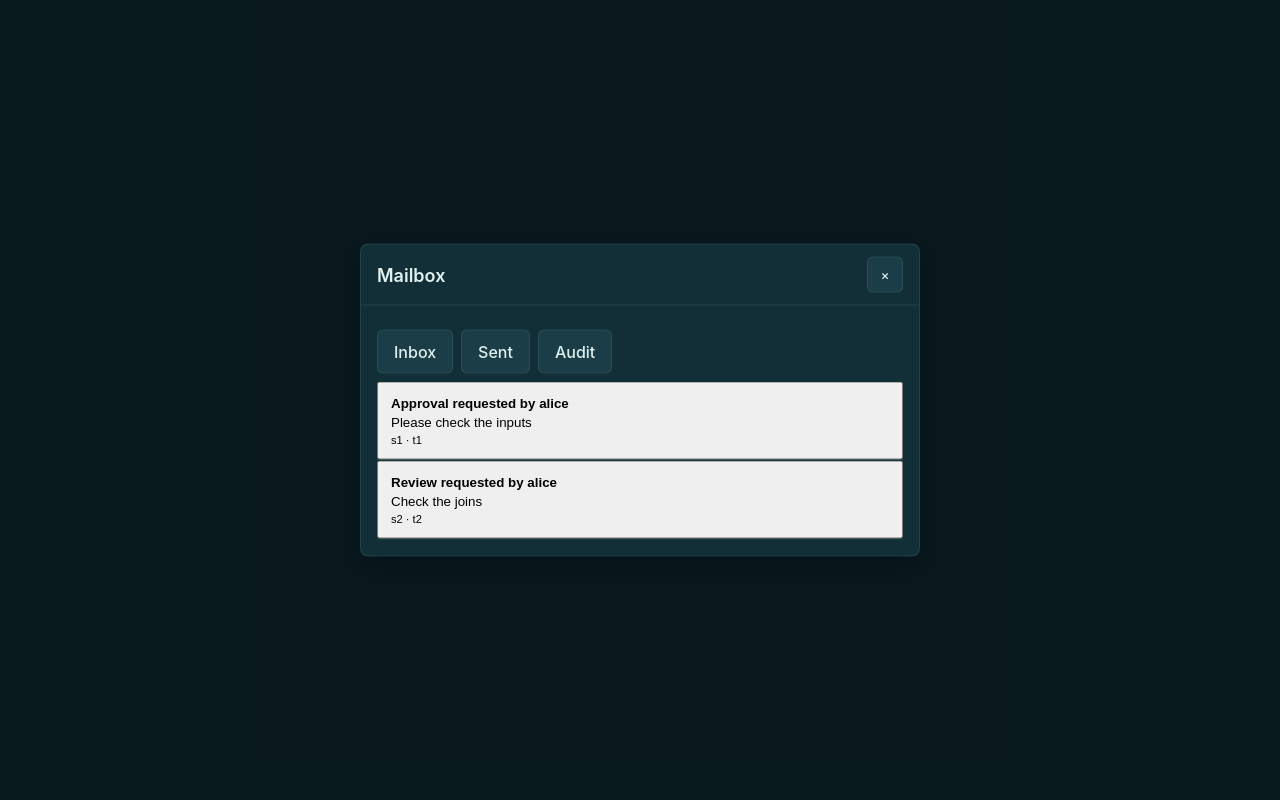
MailboxDialog › shows the server's winning decision after a concurrent loss
Step 1. Click the button "Approval requested by alice Please check the inputs s1 · t1" → (420, 403), box [377,382,903,460]
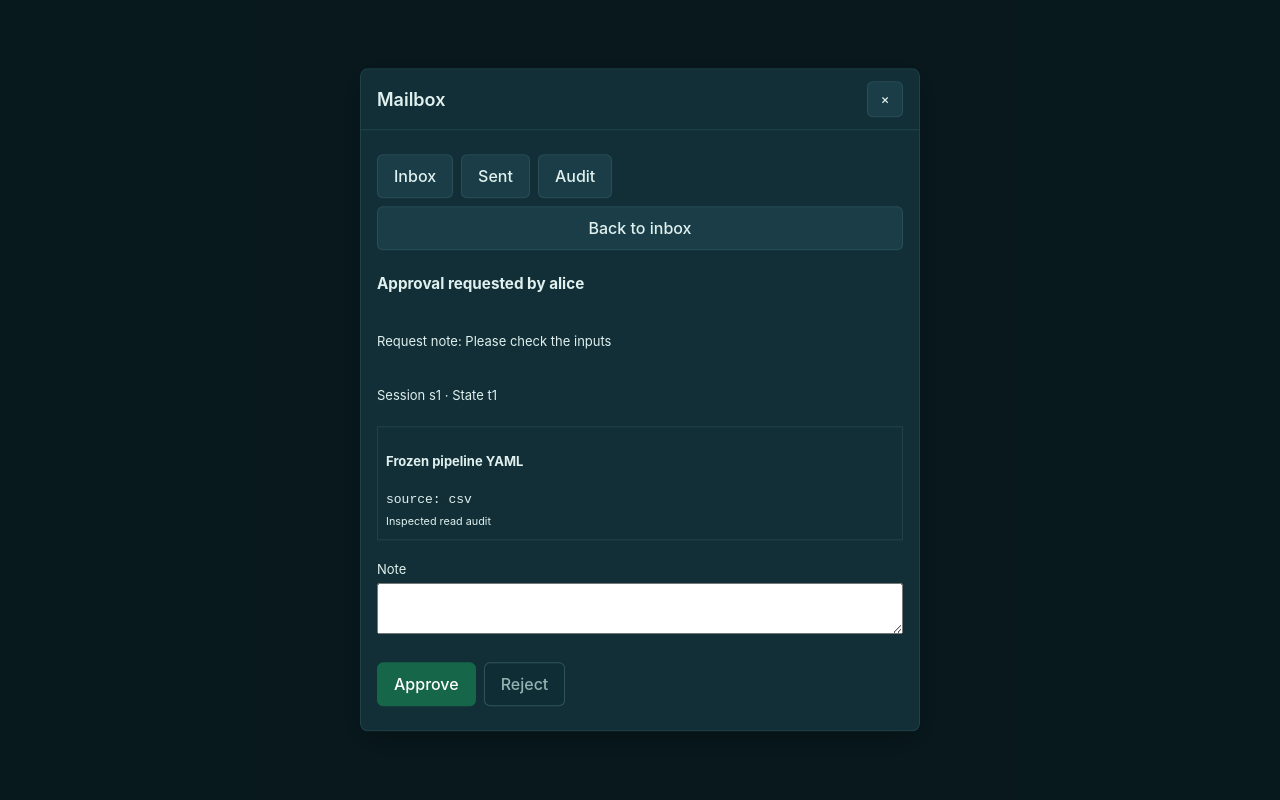
Now the element with test id "mailbox-inspect-yaml" is shown, box [386,493,472,508]
Step 2. Click the button "Approve" → (426, 685), box [377,663,476,707]
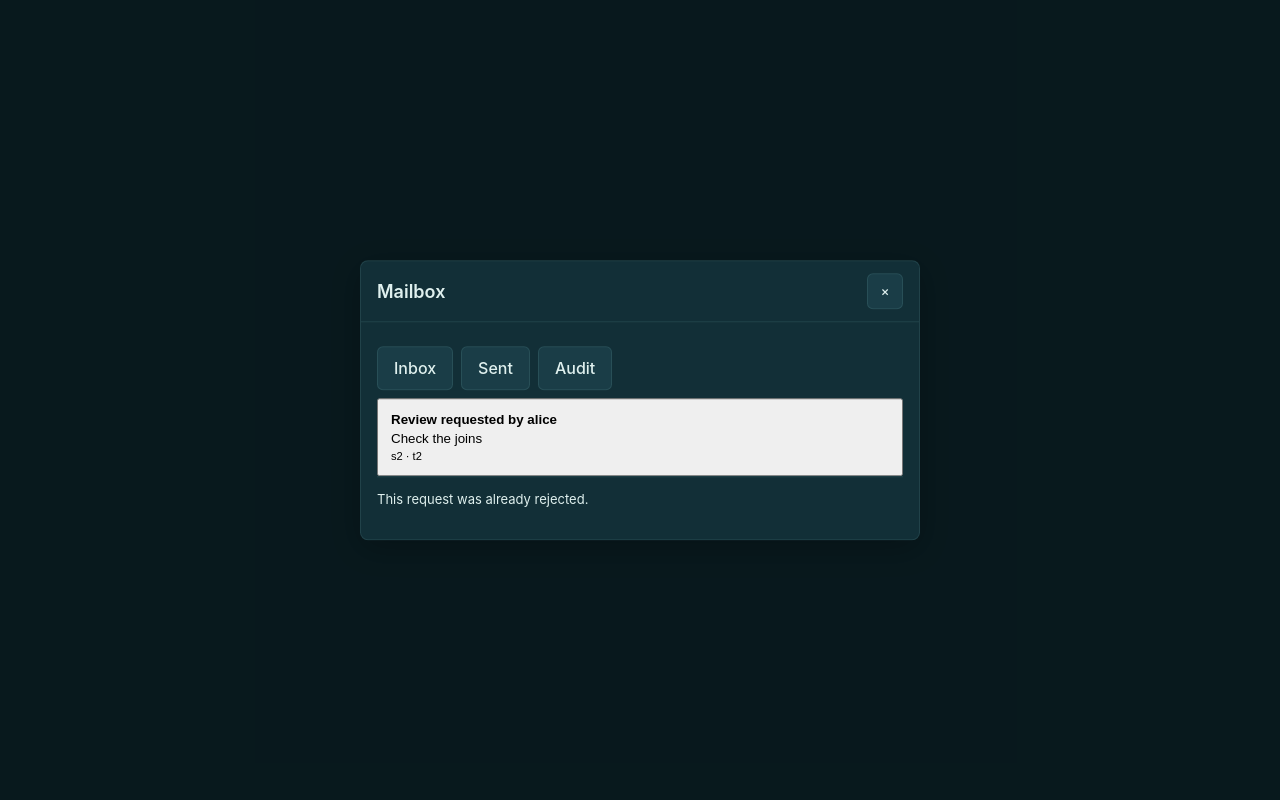
Now the message reads "This request was already rejected.", box [377,491,588,507]
Now the panel named "Inbox" is shown, box [377,398,903,477]
Now the heading "Approval requested by alice" is gone
